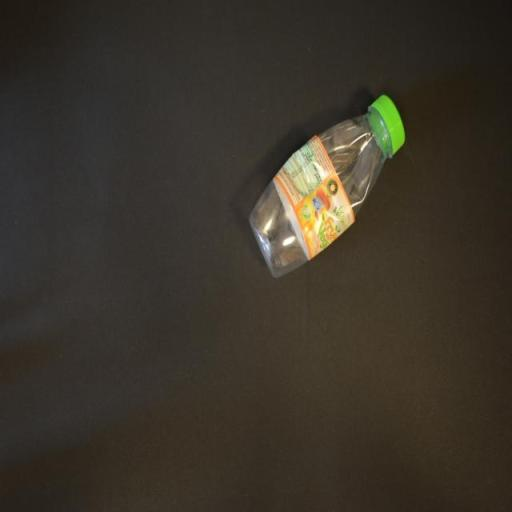plastic: (248, 94, 408, 280)
